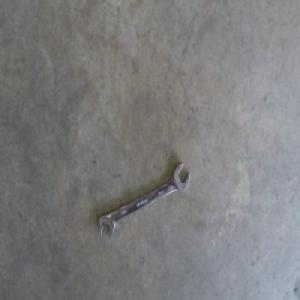Wrench: (99, 162, 190, 238)
